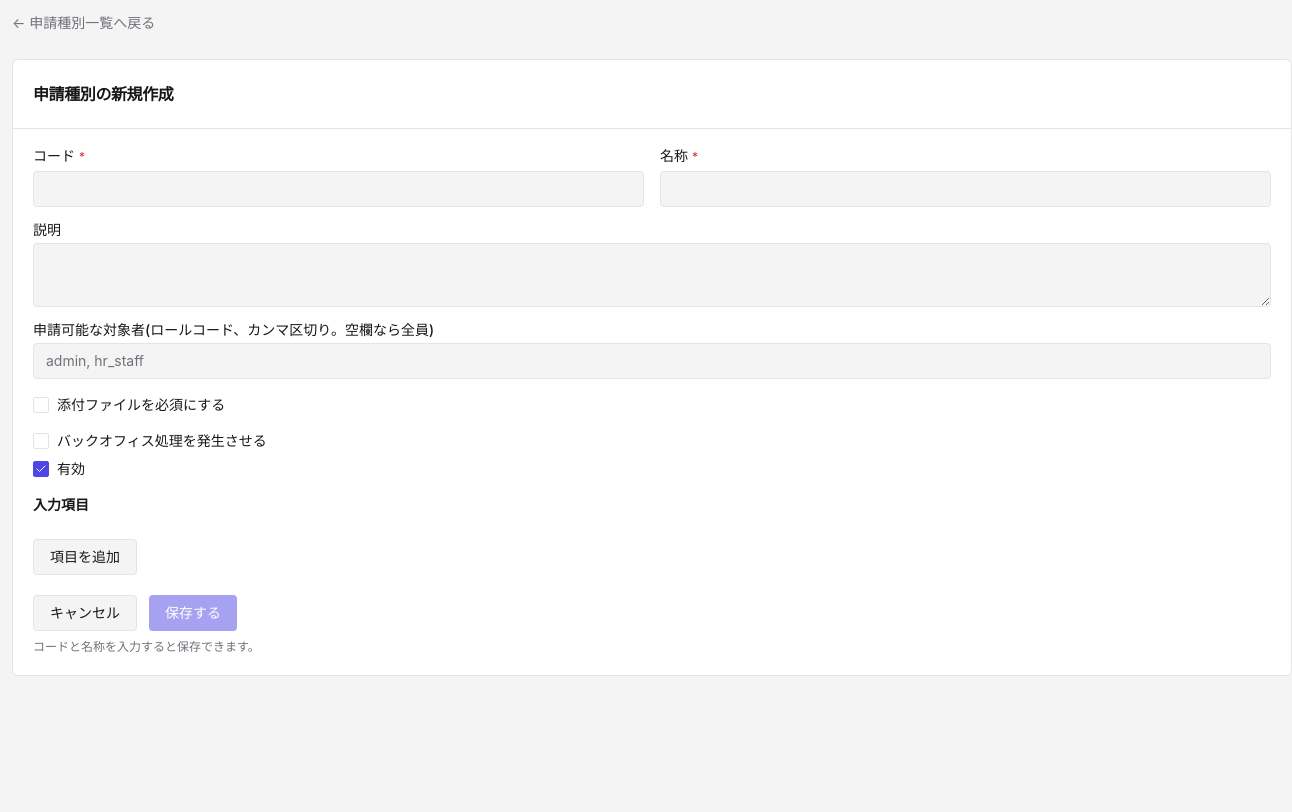
RequestTypeEditPage › adds a new schema row
This screenshot has width=1292, height=812.
Expected: the field labelled "コード" is shown, [33,171,644,207]
Click the button "項目を追加" at (85, 557), box [33,539,137,575]
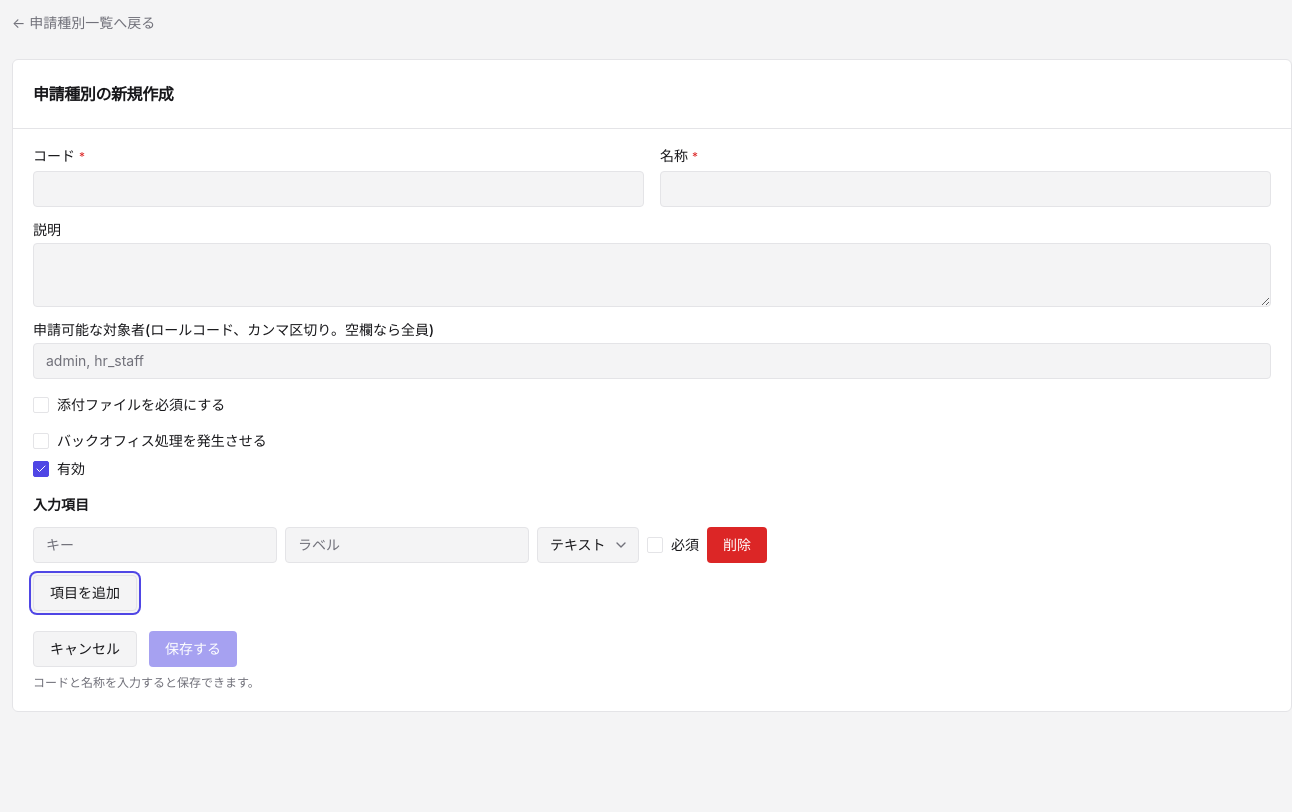
Now the field with placeholder "キー" is shown, box [33,527,277,563]
